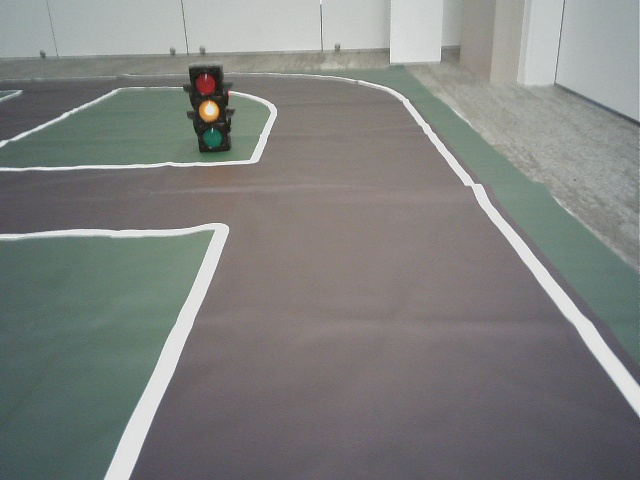yellow: (190, 66, 223, 149)
